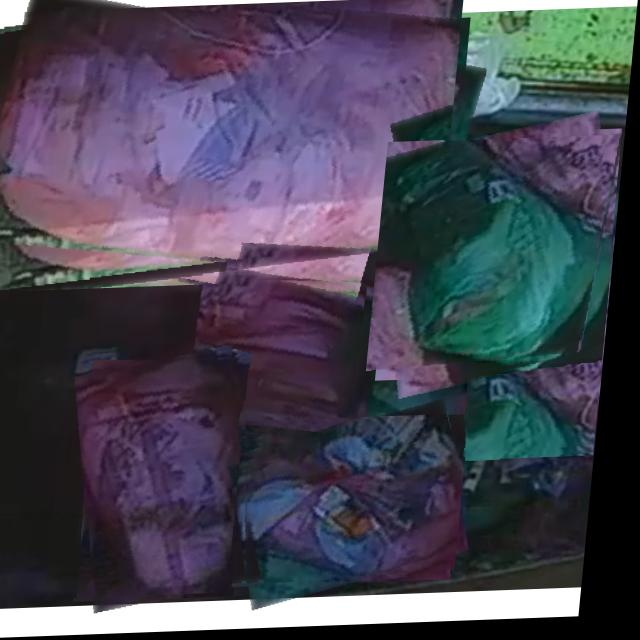general_trashbag: (383, 144, 610, 367)
other_trashbag: (0, 8, 460, 275), (91, 359, 251, 595), (255, 420, 473, 581), (197, 283, 362, 452), (482, 240, 616, 448)
